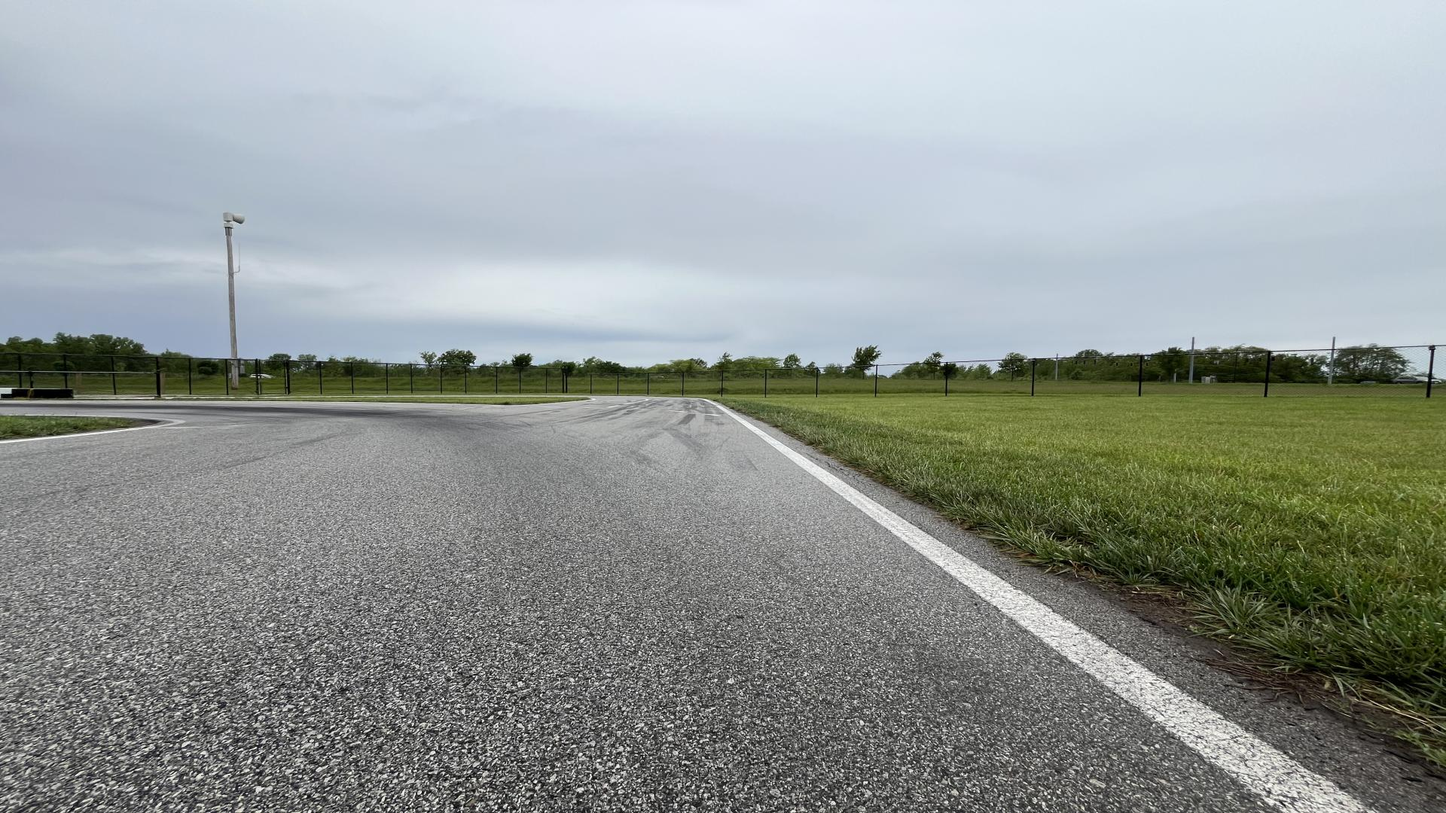white-line: (931, 538, 1368, 812), (766, 436, 950, 559), (0, 422, 176, 445), (703, 397, 769, 441), (88, 416, 182, 426), (678, 397, 706, 400), (644, 396, 677, 398)
